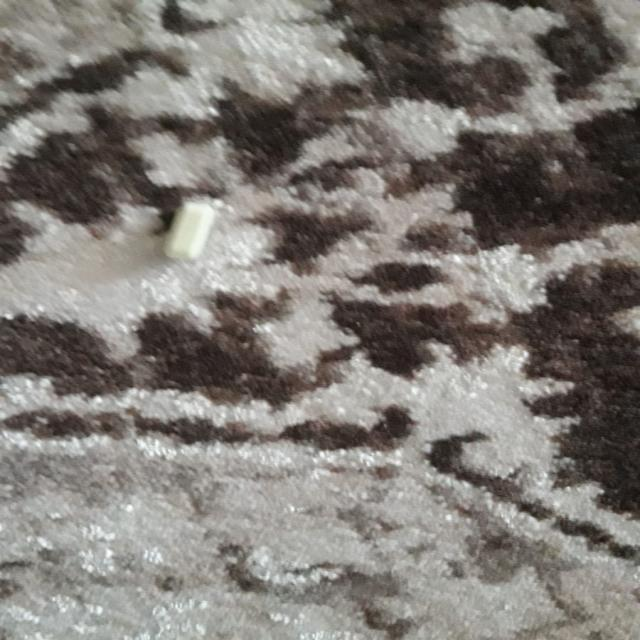pills: (154, 188, 222, 268)
